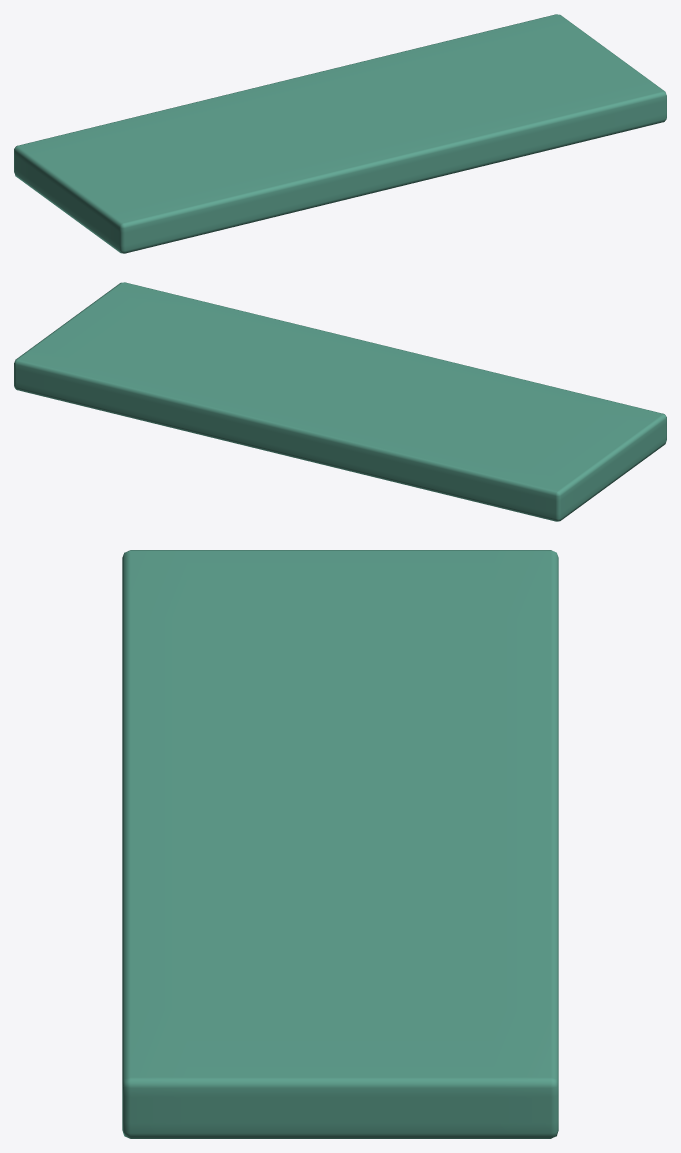
The model's file is Table.fbx.
3 renders of one model, top to bottom at view 1: azimuth 30°, elevation 25°; view 2: azimuth 150°, elevation 25°; view 3: azimuth 270°, elevation 25°, orthographic. The views are drawn at different scales.
Visible parts, largest first — view 1: Table; view 2: Table; view 3: Table.
Boxes of the visible parts, x1,y1,x2,y2 form: Table: (14, 14, 666, 253); Table: (14, 282, 666, 521); Table: (122, 550, 558, 1138).
Bounding box in the file's own units: 171 × 9.15 × 59.18.
Materials: 1 (1 with a texture image).
